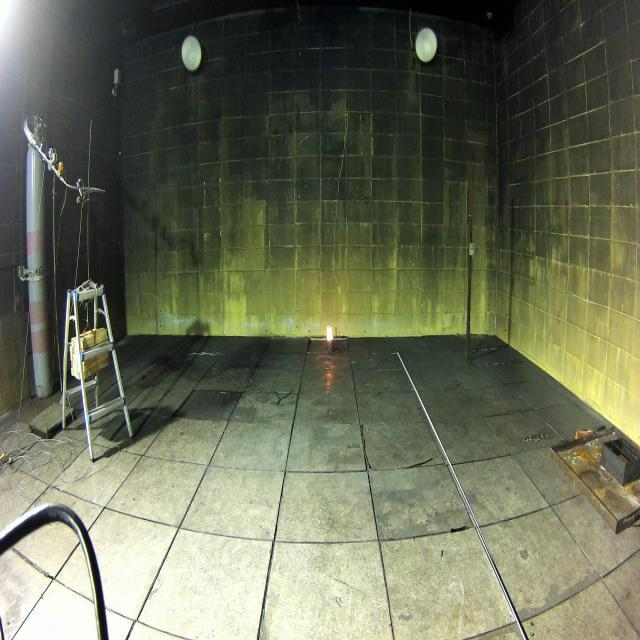Fire: (326, 324, 334, 340)
